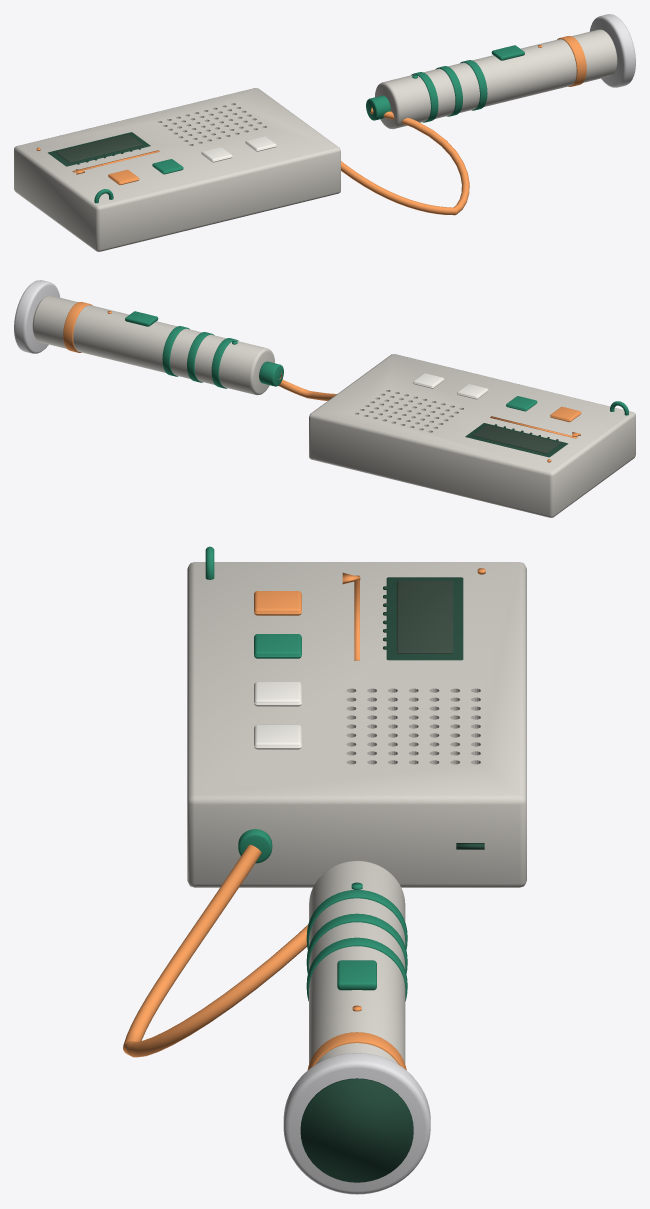
The model's file is geiger.glb.
3 renders of one model, top to bottom at view 1: azimuth 30°, elevation 25°; view 2: azimuth 150°, elevation 25°; view 3: azimuth 270°, elevation 25°, orthographic. The views are drawn at different scales.
Parts seen in each view (by area): view 1: GeigerBody, GeigerProbe, GeigerCable, GeigerProbeHead, GeigerScreen, GeigerDisplayRecess, GeigerProbeColorBand, GeigerProbeBack, GeigerProbeGrip2, GeigerProbeGrip3, GeigerProbeGrip1, GeigerProbeTrigger; view 2: GeigerBody, GeigerProbe, GeigerProbeHead, GeigerScreen, GeigerDisplayRecess, GeigerProbeColorBand, GeigerProbeBack, GeigerCable, GeigerProbeGrip2, GeigerProbeGrip3, GeigerProbeGrip1, GeigerProbeTrigger; view 3: GeigerBody, GeigerProbe, GeigerProbeFace, GeigerProbeHead, GeigerCable, GeigerScreen, GeigerDisplayRecess, GeigerButtonVolUp, GeigerButtonVolDn, GeigerProbeTrigger, GeigerButtonMode, GeigerButtonPower (+4 smaller).
Part boxes in pixels (x1=…): GeigerBody: x1=14, y1=88, x2=340, y2=251; GeigerProbe: x1=375, y1=29, x2=617, y2=129; GeigerCable: x1=341, y1=107, x2=469, y2=215; GeigerProbeHead: x1=589, y1=14, x2=635, y2=87; GeigerScreen: x1=56, y1=134, x2=142, y2=162; GeigerDisplayRecess: x1=48, y1=132, x2=150, y2=166; GeigerProbeColorBand: x1=557, y1=36, x2=586, y2=86; GeigerProbeBack: x1=366, y1=95, x2=390, y2=120; GeigerProbeGrip2: x1=435, y1=66, x2=462, y2=116; GeigerProbeGrip3: x1=460, y1=60, x2=487, y2=110; GeigerProbeGrip1: x1=411, y1=72, x2=438, y2=122; GeigerProbeTrigger: x1=491, y1=45, x2=524, y2=60; GeigerBody: x1=309, y1=354, x2=635, y2=517; GeigerProbe: x1=32, y1=295, x2=274, y2=395; GeigerProbeHead: x1=14, y1=280, x2=60, y2=353; GeigerScreen: x1=473, y1=425, x2=560, y2=453; GeigerDisplayRecess: x1=465, y1=423, x2=568, y2=457; GeigerProbeColorBand: x1=63, y1=302, x2=92, y2=352; GeigerProbeBack: x1=259, y1=361, x2=283, y2=386; GeigerCable: x1=278, y1=373, x2=336, y2=400; GeigerProbeGrip2: x1=187, y1=332, x2=214, y2=382; GeigerProbeGrip3: x1=162, y1=326, x2=189, y2=376; GeigerProbeGrip1: x1=211, y1=338, x2=238, y2=388; GeigerProbeTrigger: x1=125, y1=311, x2=158, y2=326; GeigerBody: x1=187, y1=562, x2=526, y2=887; GeigerProbe: x1=309, y1=860, x2=405, y2=1064; GeigerProbeFace: x1=300, y1=1078, x2=413, y2=1182; GeigerProbeHead: x1=283, y1=1053, x2=430, y2=1194; GeigerCable: x1=123, y1=844, x2=308, y2=1057; GeigerScreen: x1=396, y1=580, x2=453, y2=653; GeigerDisplayRecess: x1=386, y1=577, x2=463, y2=660; GeigerButtonVolUp: x1=254, y1=681, x2=301, y2=706; GeigerButtonVolDn: x1=254, y1=724, x2=301, y2=749; GeigerProbeTrigger: x1=337, y1=960, x2=376, y2=990; GeigerButtonMode: x1=254, y1=634, x2=301, y2=658; GeigerButtonPower: x1=254, y1=591, x2=301, y2=615.
Bounding box in the file's own units: 0.2307 × 0.0404 × 0.0714.
